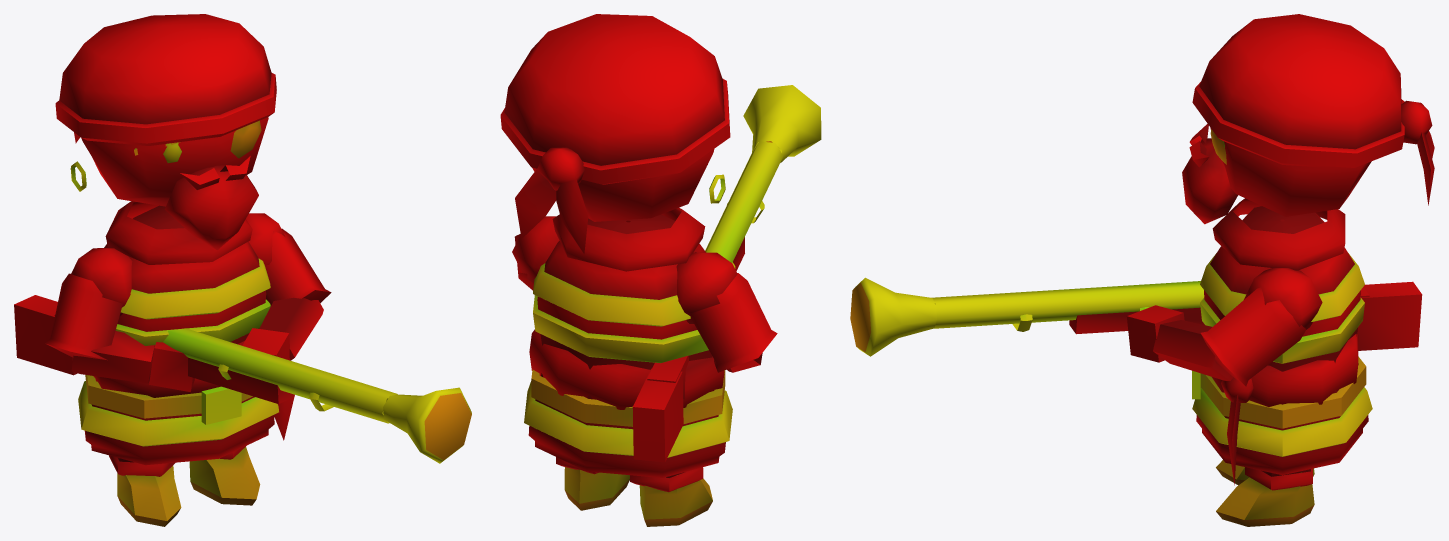
The model's file is PirateBlunderbuss_LOD1.glb.
3 views of the same model, side by side, from view 1: azimuth 30°, elevation 25°; view 2: azimuth 150°, elevation 25°; view 3: azimuth 270°, elevation 25° (orthographic). The views are drawn at different scales.
Visible parts, largest first — view 1: PirateBlunderbuss_LOD1; view 2: PirateBlunderbuss_LOD1; view 3: PirateBlunderbuss_LOD1.
Part boxes in pixels (<box>): PirateBlunderbuss_LOD1: <box>14,14,471,526</box>; PirateBlunderbuss_LOD1: <box>500,14,821,526</box>; PirateBlunderbuss_LOD1: <box>850,14,1434,526</box>.
Size of the model in its own units: 0.4684 by 0.8097 by 0.9335.
